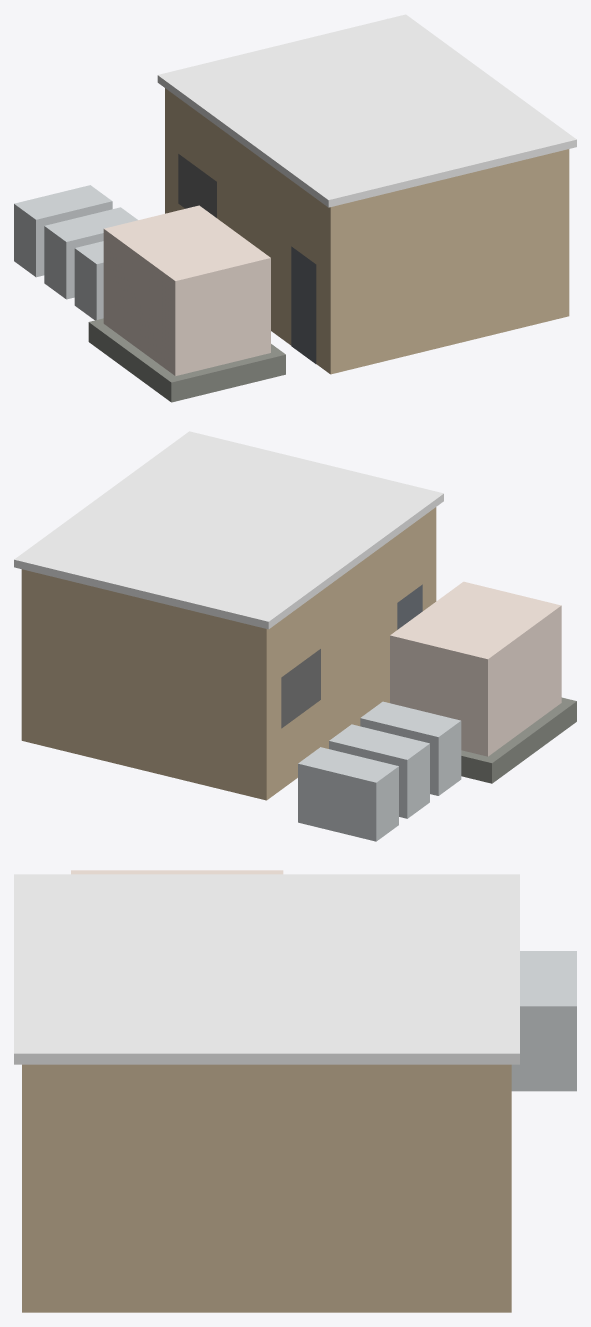
The model's file is roofprop.fbx.
3 views of the same model, one above another, from view 1: azimuth 30°, elevation 25°; view 2: azimuth 150°, elevation 25°; view 3: azimuth 270°, elevation 25° (orthographic). The views are drawn at different scales.
Visible parts, largest first — view 1: a2007/0/roofprop; view 2: a2007/0/roofprop; view 3: a2007/0/roofprop.
Boxes of the visible parts, <box> form: a2007/0/roofprop: <box>14,14,576,402</box>; a2007/0/roofprop: <box>14,431,576,841</box>; a2007/0/roofprop: <box>14,870,576,1312</box>.
Size of the model in its own units: 8.2 by 3.55 by 6.9.
